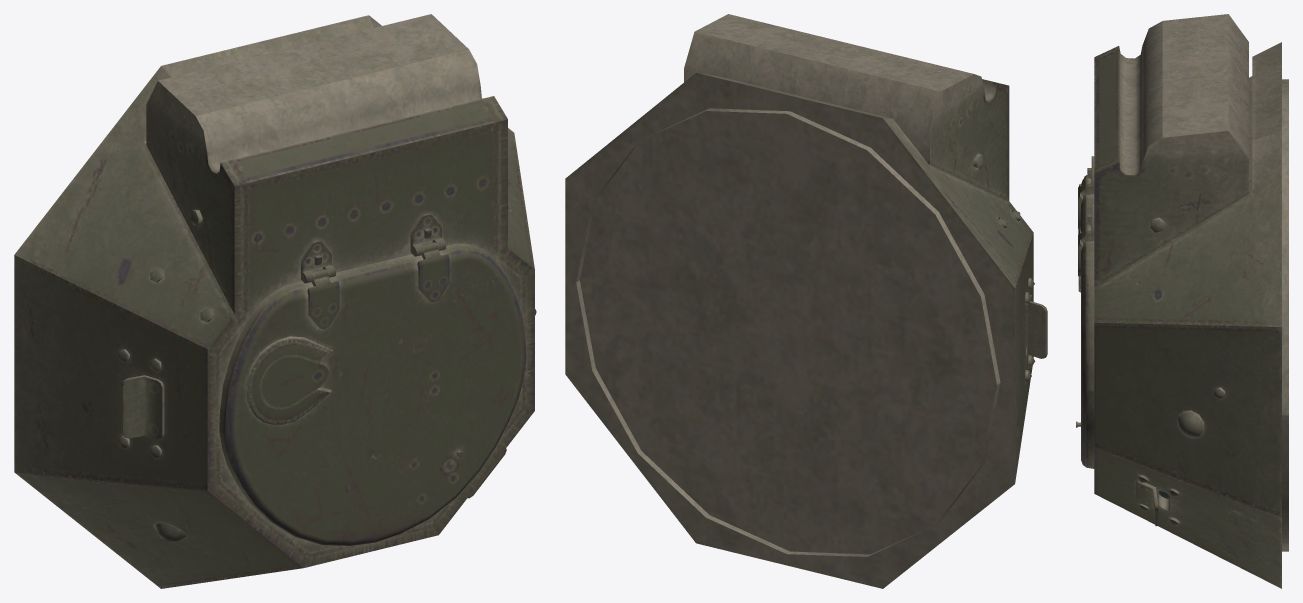
Rendered from Turret_02.glb.
The picture shows the model from 3 angles, left to right: view 1: azimuth 30°, elevation 25°; view 2: azimuth 150°, elevation 25°; view 3: azimuth 270°, elevation 25°; orthographic projection. The views are drawn at different scales.
Visible parts, largest first — view 1: set_0_group_0; view 2: set_0_group_0; view 3: set_0_group_0.
Part boxes in pixels (x1,y1,x2,y2): set_0_group_0: (14,14,536,588); set_0_group_0: (565,14,1047,588); set_0_group_0: (1076,14,1288,588).
Size of the model in its own units: 1.15 by 1.19 by 0.4845.
1 material, 1 textured.
